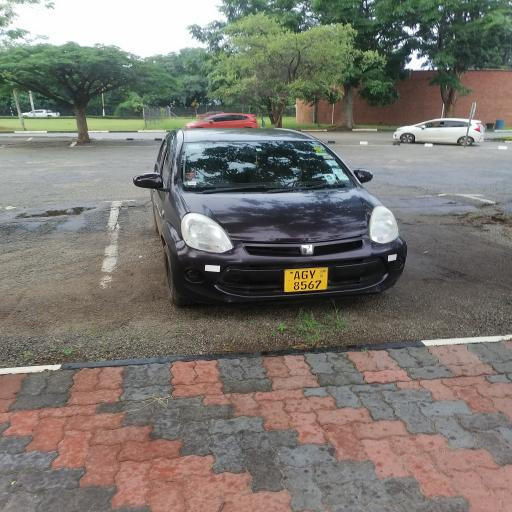number-plates: (285, 263, 337, 295)
